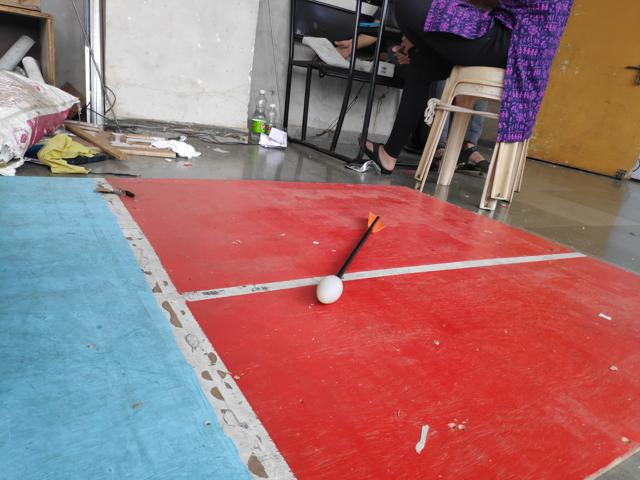Head: (314, 273, 347, 307)
Tail: (360, 208, 395, 237)
